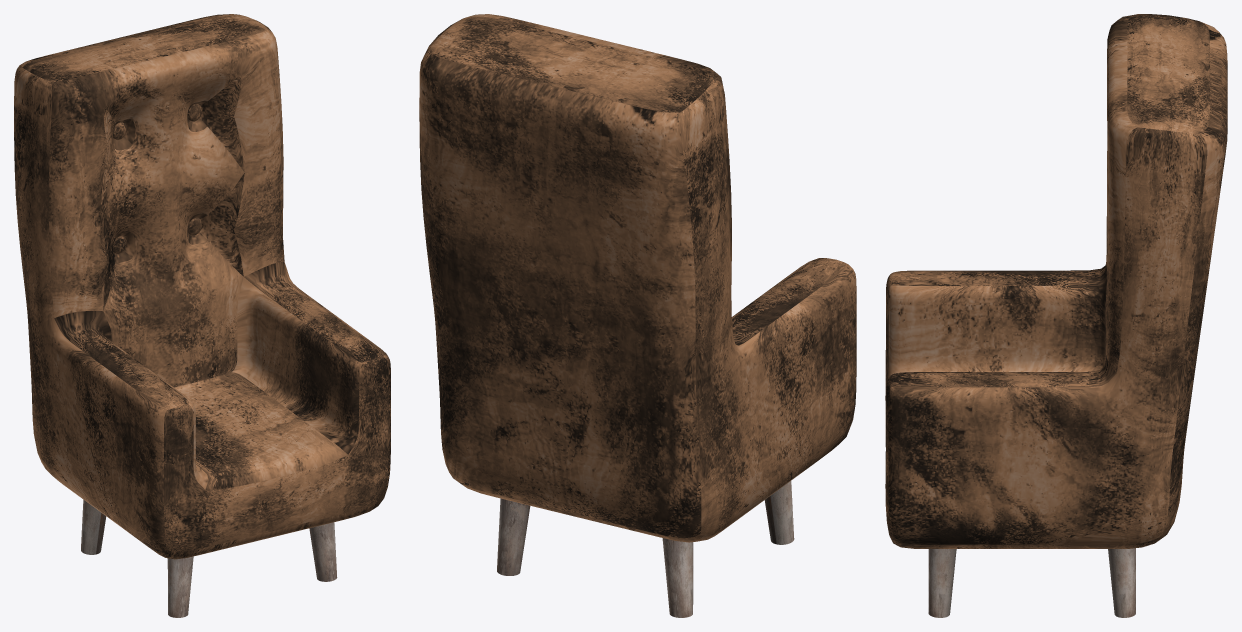
Rendered from chair.glb.
The picture shows the model from 3 angles, left to right: view 1: azimuth 30°, elevation 25°; view 2: azimuth 150°, elevation 25°; view 3: azimuth 270°, elevation 25°; orthographic projection. The views are drawn at different scales.
Parts seen in each view (by area): view 1: Plane, Cylinder; view 2: Plane, Cylinder; view 3: Plane, Cylinder.
Part boxes in pixels (x1,y1,x2,y2): Plane: [14, 14, 390, 559]; Cylinder: [81, 500, 337, 617]; Plane: [419, 14, 856, 542]; Cylinder: [497, 481, 794, 617]; Plane: [885, 14, 1227, 548]; Cylinder: [928, 548, 1135, 617].
Bounding box in the file's own units: 0.8367 × 1.54 × 0.938.
2 materials, 2 textured.
